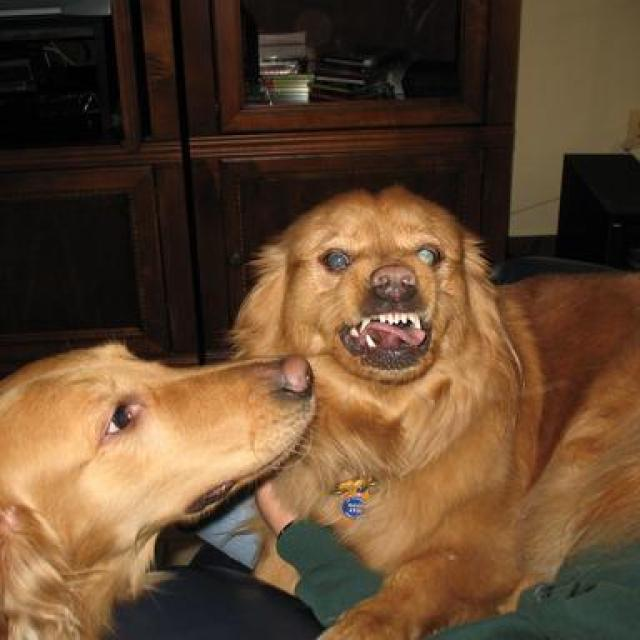angry: (257, 180, 514, 419)
